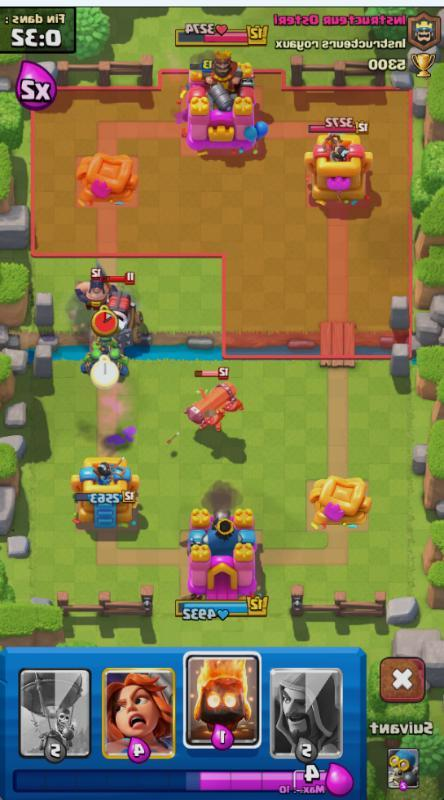enemy_battle_ram: (182, 363, 248, 439)
enemy_excecutioner: (74, 260, 118, 312)
enemy_sparky: (104, 269, 150, 347)
player_spear_goblins: (108, 346, 132, 376), (78, 349, 102, 377)
